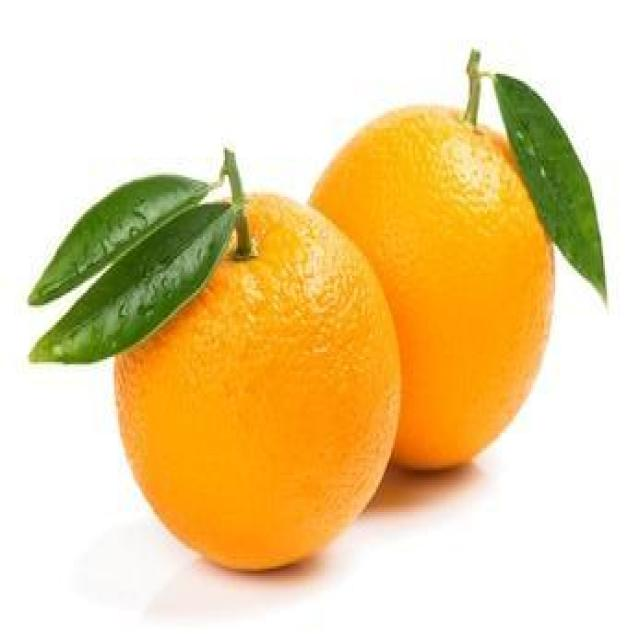orange: (111, 191, 403, 572), (402, 100, 556, 473)
